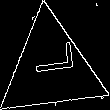L_W: (26, 50, 77, 87)
